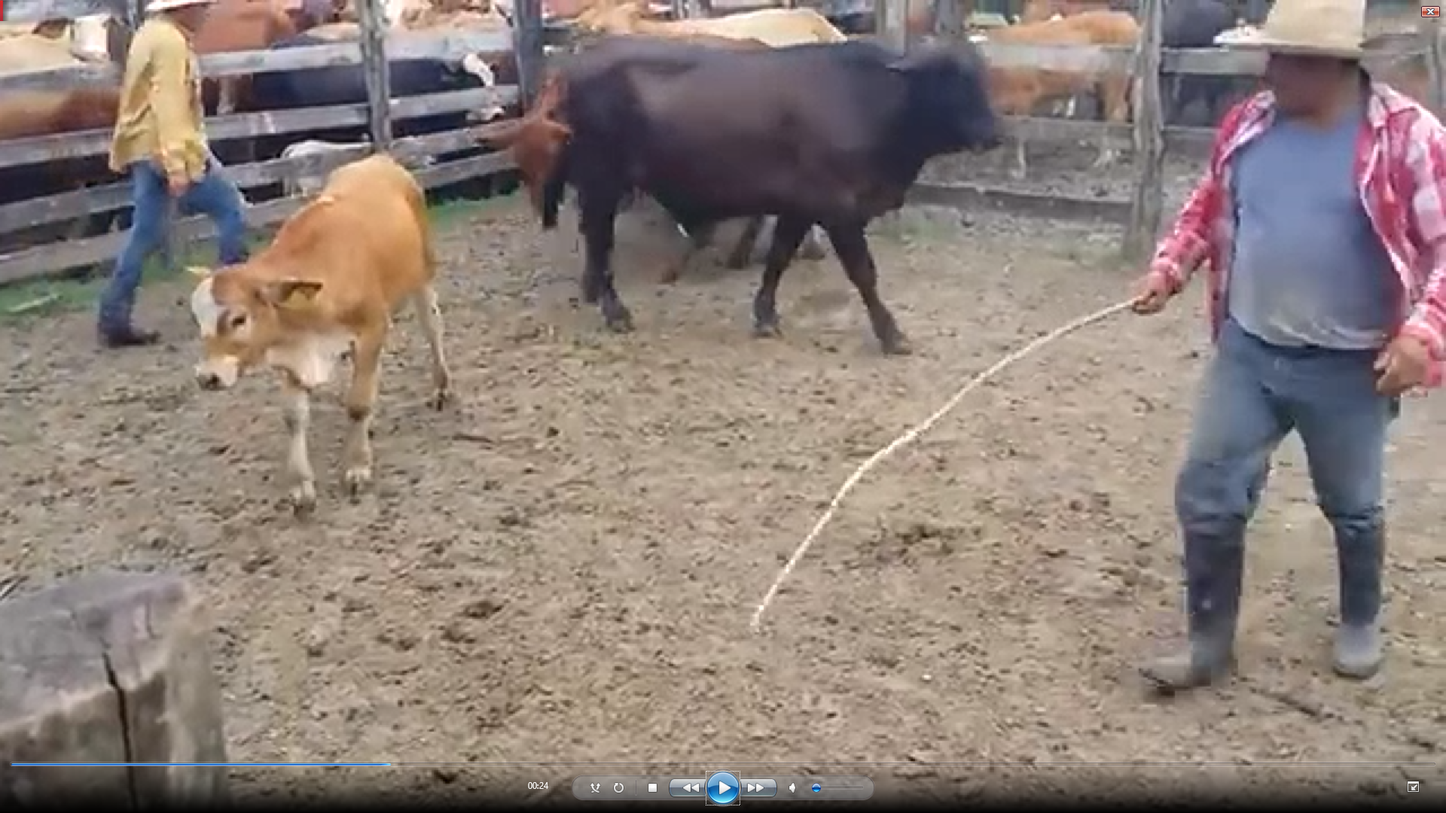bovino: (556, 39, 1007, 348), (195, 151, 453, 496)
